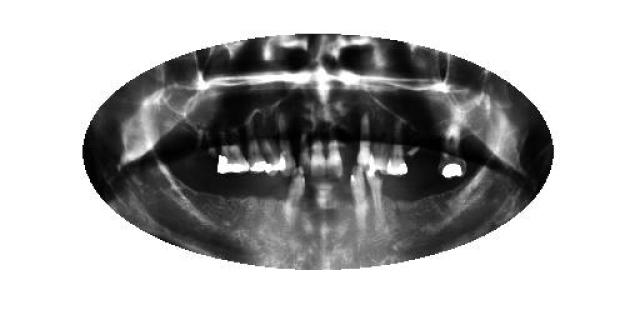Fillings: (437, 124, 468, 181), (215, 138, 245, 176), (386, 136, 412, 178), (246, 134, 265, 176), (264, 132, 281, 176)
